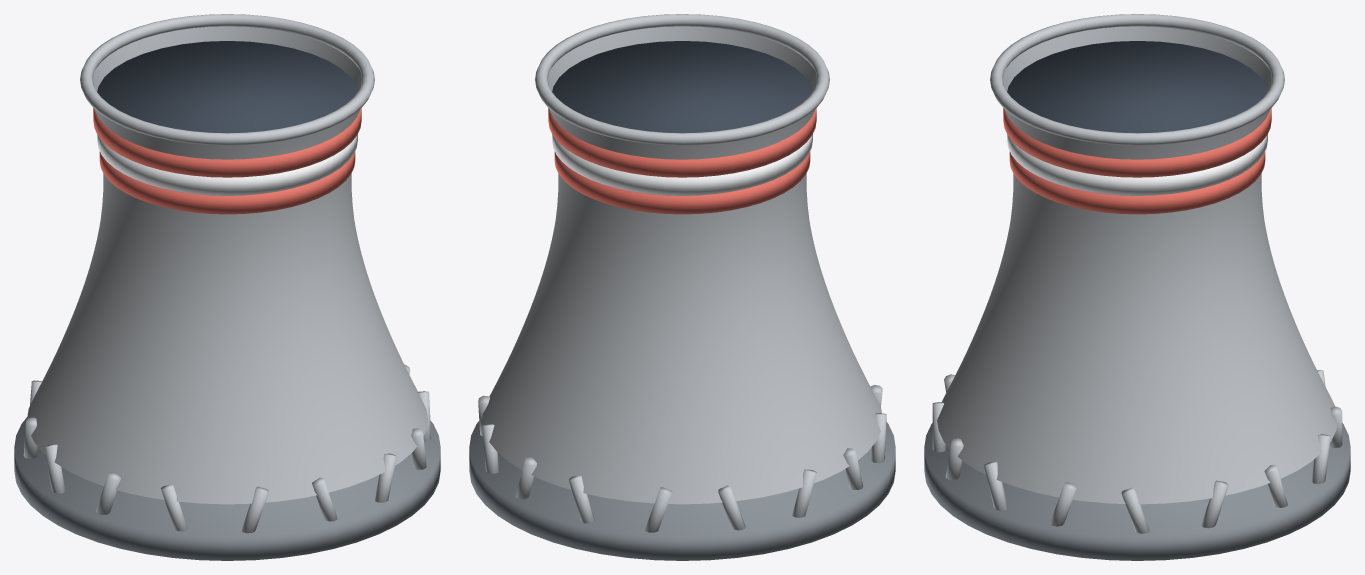
Rendered from hyperbolic_tower.glb.
3 views of the same model, side by side, from view 1: azimuth 30°, elevation 25°; view 2: azimuth 150°, elevation 25°; view 3: azimuth 270°, elevation 25° (orthographic).
Visible parts, largest first — view 1: HyperboloidShell, HypBasin, HypDarkThroat, HypTopRim, HypBand_0, HypBand_2, HypBand_1, HypStilt_11, HypStilt_13, HypStilt_10, HypStilt_8, HypStilt_9 (+1 smaller); view 2: HyperboloidShell, HypBasin, HypDarkThroat, HypTopRim, HypBand_0, HypBand_2, HypBand_1, HypStilt_4, HypStilt_6, HypStilt_7, HypStilt_5, HypStilt_2 (+3 smaller); view 3: HyperboloidShell, HypBasin, HypDarkThroat, HypTopRim, HypBand_0, HypBand_2, HypBand_1, HypStilt_1, HypStilt_14, HypStilt_0, HypStilt_15, HypStilt_3 (+2 smaller).
Boxes of the visible parts, <box> form: HyperboloidShell: <box>27,26,427,504</box>; HypBasin: <box>14,417,440,560</box>; HypDarkThroat: <box>97,41,357,133</box>; HypTopRim: <box>80,14,374,145</box>; HypBand_0: <box>93,91,361,177</box>; HypBand_2: <box>99,151,355,214</box>; HypBand_1: <box>97,134,357,195</box>; HypStilt_11: <box>241,486,268,533</box>; HypStilt_13: <box>374,453,396,502</box>; HypStilt_10: <box>161,484,187,531</box>; HypStilt_8: <box>44,444,65,493</box>; HypStilt_9: <box>96,472,120,514</box>; HyperboloidShell: <box>482,26,881,504</box>; HypBasin: <box>469,421,895,560</box>; HypDarkThroat: <box>552,41,812,133</box>; HypTopRim: <box>535,14,829,145</box>; HypBand_0: <box>548,91,816,177</box>; HypBand_2: <box>554,151,810,214</box>; HypBand_1: <box>552,134,812,195</box>; HypStilt_4: <box>569,475,594,523</box>; HypStilt_6: <box>718,485,745,530</box>; HypStilt_7: <box>792,469,816,517</box>; HypStilt_5: <box>644,487,672,532</box>; HypStilt_2: <box>482,424,499,473</box>; HyperboloidShell: <box>937,26,1337,504</box>; HypBasin: <box>924,423,1350,560</box>; HypDarkThroat: <box>1007,41,1267,133</box>; HypTopRim: <box>990,14,1284,145</box>; HypBand_0: <box>1003,91,1271,177</box>; HypBand_2: <box>1009,151,1265,214</box>; HypBand_1: <box>1007,134,1267,195</box>; HypStilt_1: <box>1201,480,1228,528</box>; HypStilt_14: <box>984,462,1008,510</box>; HypStilt_0: <box>1121,487,1149,533</box>; HypStilt_15: <box>1050,482,1076,526</box>; HypStilt_3: <box>1311,434,1330,484</box>.
Size of the model in its own units: 0.98 by 1.01 by 0.98.
